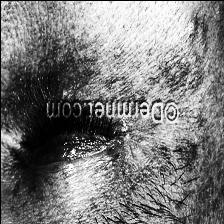Non-Cancerous Skin Condition: (0, 74, 31, 162)
